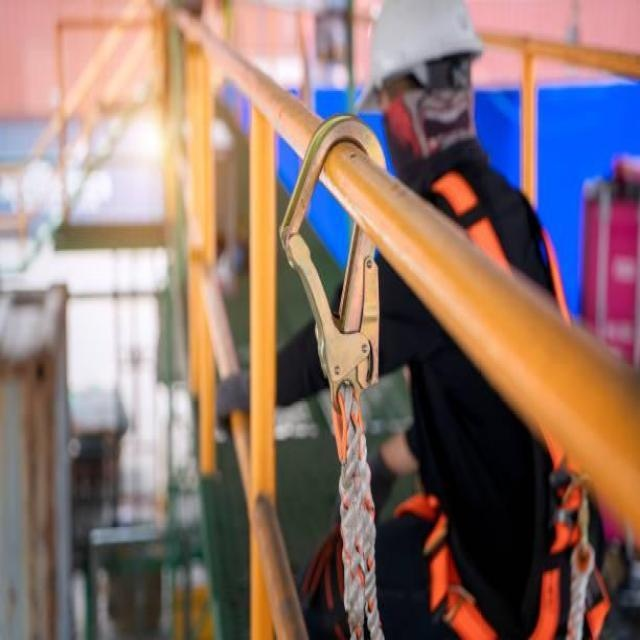Arnes_seguridad: (393, 171, 612, 640)
